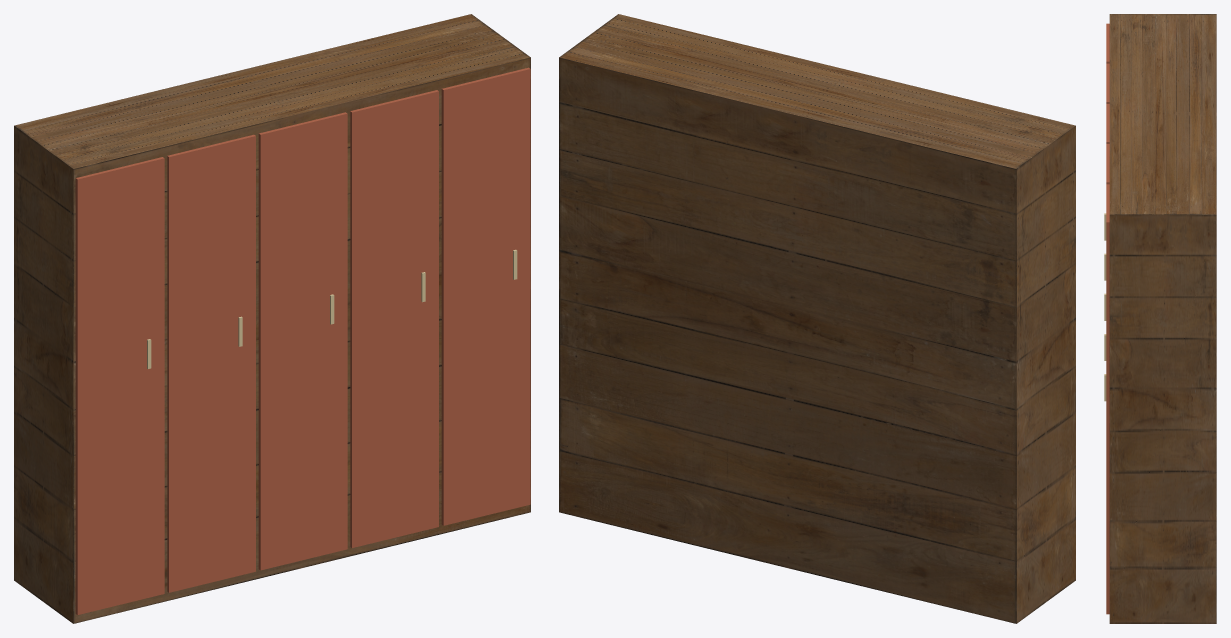
File: armario_vestiario_200.glb
The picture shows the model from 3 angles, left to right: view 1: azimuth 30°, elevation 25°; view 2: azimuth 150°, elevation 25°; view 3: azimuth 270°, elevation 25°; orthographic projection. The views are drawn at different scales.
Parts seen in each view (by area): view 1: armario_vestiario_200; view 2: armario_vestiario_200; view 3: armario_vestiario_200.
Part boxes in pixels (x1,y1,x2,y2): armario_vestiario_200: [14, 14, 530, 623]; armario_vestiario_200: [559, 14, 1075, 623]; armario_vestiario_200: [1104, 14, 1216, 623].
Size of the model in its own units: 2 by 1.9 by 0.472.
Materials: 3 (1 with a texture image).
